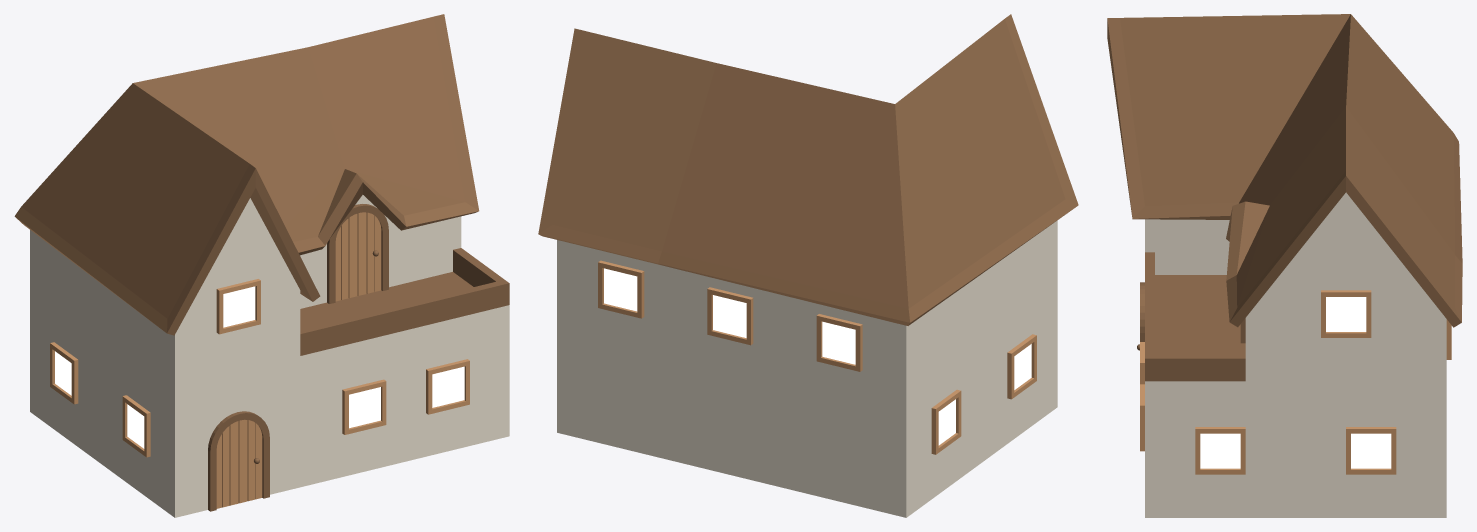
Rendered from SM_HouseT2_01.fbx.
3 views of the same model, side by side, from view 1: azimuth 30°, elevation 25°; view 2: azimuth 150°, elevation 25°; view 3: azimuth 270°, elevation 25° (orthographic). The views are drawn at different scales.
Visible parts, largest first — view 1: Cube.016, DoorCurved_01.008, DoorCurved_01.009, WindowSmall_01.056, WindowSmall_01.054, WindowSmall_01.055, WindowSmall_01.053, WindowSmall_01.052; view 2: Cube.016, WindowSmall_01.060, WindowSmall_01.061, WindowSmall_01.062, WindowSmall_01.053, WindowSmall_01.052; view 3: Cube.016, WindowSmall_01.057, WindowSmall_01.058, WindowSmall_01.059.
Boxes of the visible parts, bbox=[...] form: Cube.016: bbox=[14, 14, 509, 517]; DoorCurved_01.008: bbox=[208, 411, 269, 511]; DoorCurved_01.009: bbox=[327, 204, 388, 303]; WindowSmall_01.056: bbox=[342, 379, 386, 434]; WindowSmall_01.054: bbox=[216, 279, 260, 334]; WindowSmall_01.055: bbox=[426, 359, 469, 414]; WindowSmall_01.053: bbox=[50, 342, 78, 404]; WindowSmall_01.052: bbox=[122, 395, 150, 457]; Cube.016: bbox=[538, 14, 1078, 517]; WindowSmall_01.060: bbox=[707, 287, 753, 345]; WindowSmall_01.061: bbox=[598, 260, 644, 318]; WindowSmall_01.062: bbox=[816, 314, 862, 371]; WindowSmall_01.053: bbox=[931, 389, 961, 454]; WindowSmall_01.052: bbox=[1007, 334, 1036, 399]; Cube.016: bbox=[1107, 14, 1462, 517]; WindowSmall_01.057: bbox=[1195, 427, 1245, 474]; WindowSmall_01.058: bbox=[1346, 427, 1396, 474]; WindowSmall_01.059: bbox=[1321, 290, 1371, 337].
Size of the model in its own units: 909 by 797 by 707.
